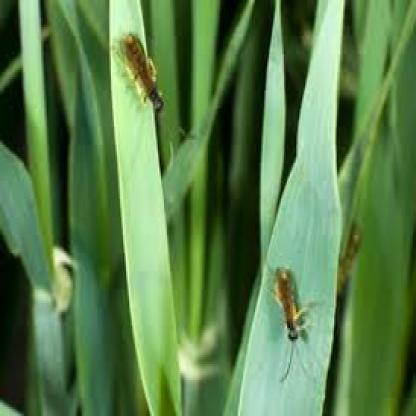sawfly: (265, 256, 321, 392), (114, 27, 165, 117)
